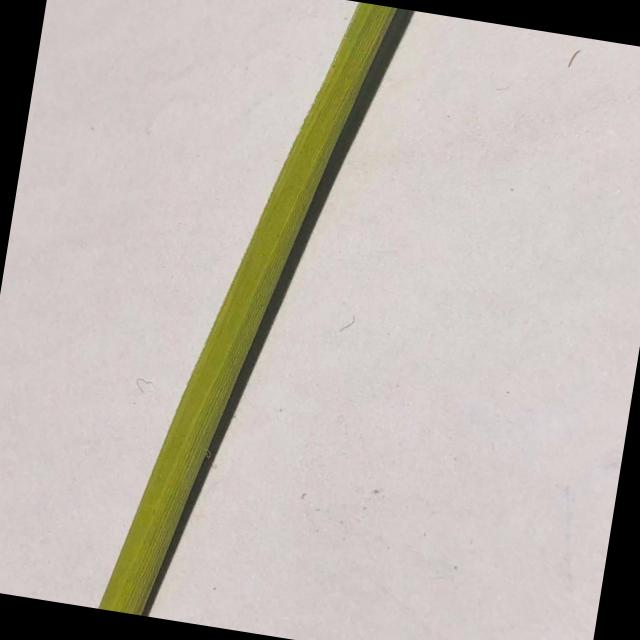Rice_Healthy: (98, 2, 399, 615)
